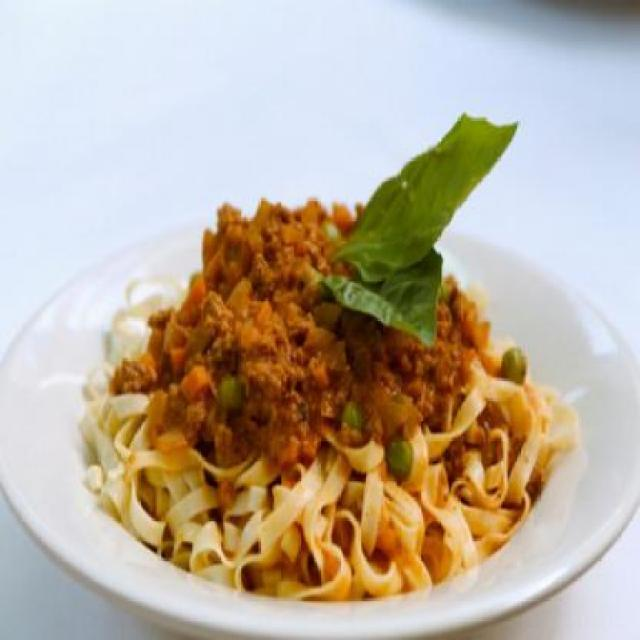Pasta al ragu: (115, 136, 597, 622)
